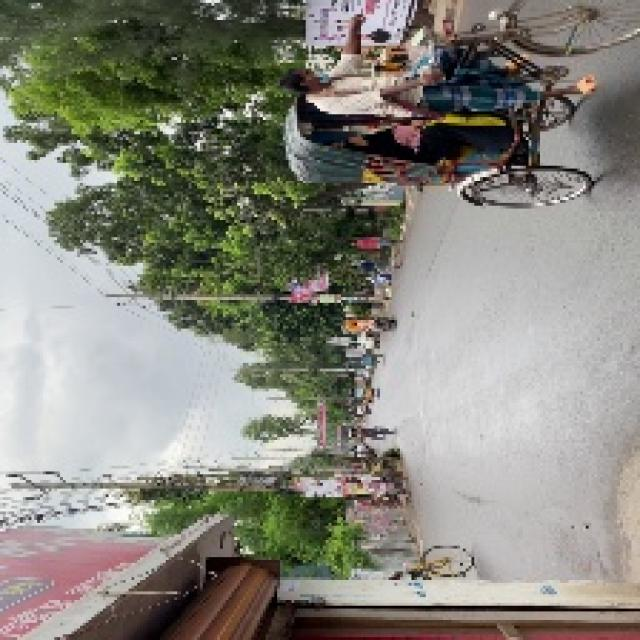bike: (367, 317, 398, 335)
rickshaw: (278, 5, 620, 203), (342, 352, 388, 369)
